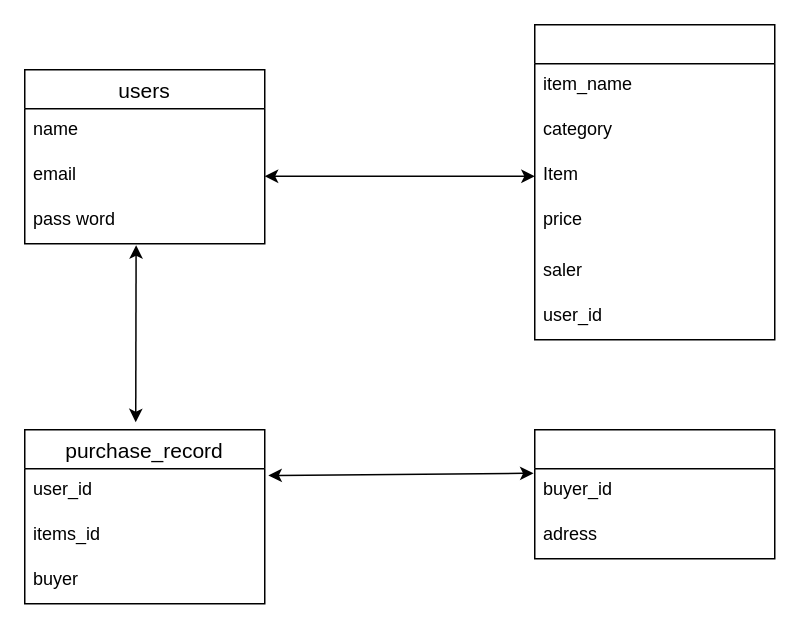
Image size: 800x629. Some labels were removed from this diagram. The shapes that lost their labels are listed below. From the top down, each one's box as (x1, y1, x2, y2) in pixels, then its label:
(533, 23, 775, 340): items
(533, 428, 775, 559): address
